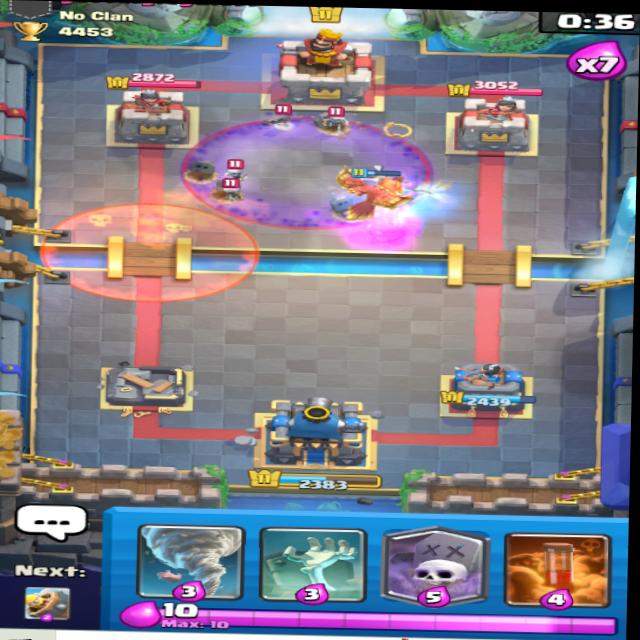graveyard: (186, 101, 438, 236)
poison: (46, 190, 257, 305)
skeleton: (213, 173, 246, 204), (223, 155, 259, 183), (319, 106, 361, 129)
